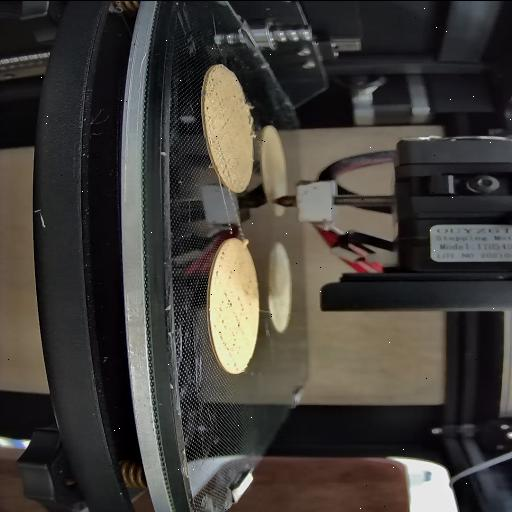under_extrusion: (217, 290, 249, 354), (207, 78, 239, 132), (212, 146, 236, 178), (210, 244, 230, 278)
